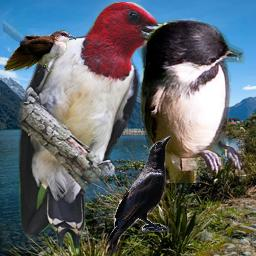Crow: (105, 135, 172, 256)
Cuckoo: (3, 2, 77, 74)
Swallow: (137, 15, 250, 183)
Woodpecker: (12, 2, 194, 255)
